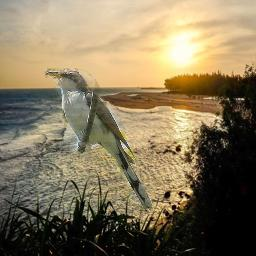Cuckoo: (45, 68, 154, 211)
